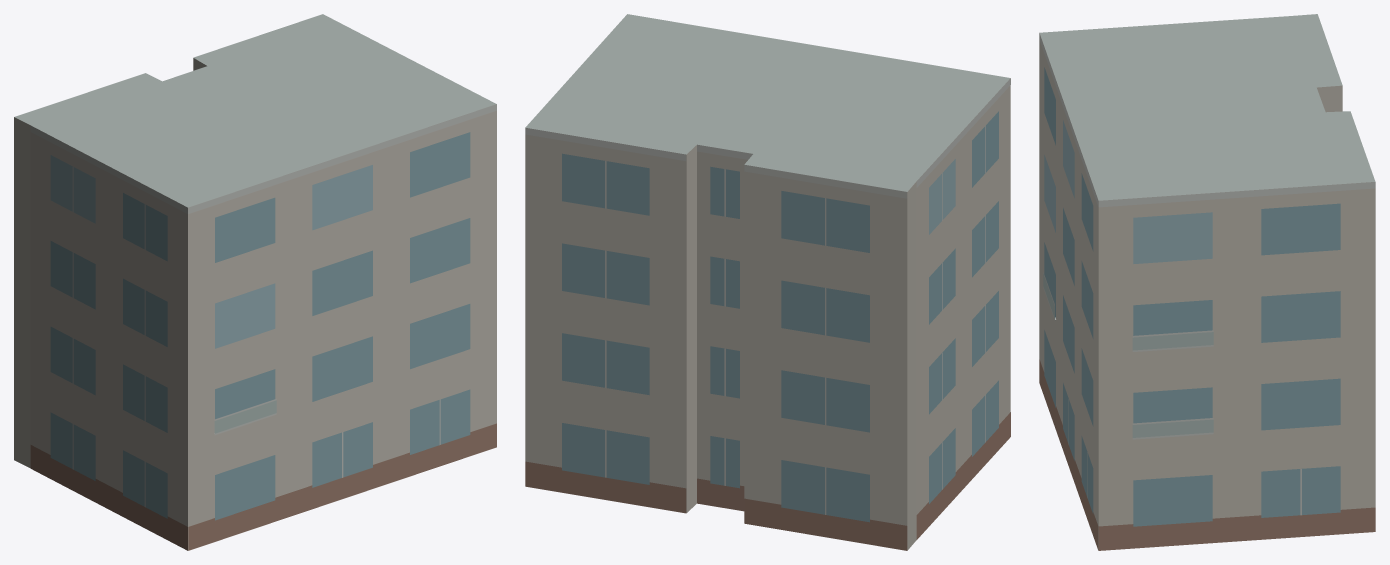
Rendered from survey-upis-32988416.glb.
The picture shows the model from 3 angles, left to right: view 1: azimuth 30°, elevation 25°; view 2: azimuth 150°, elevation 25°; view 3: azimuth 270°, elevation 25°; orthographic projection. The views are drawn at different scales.
Visible parts, largest first — view 1: survey-upis-32988416.tmp; view 2: survey-upis-32988416.tmp; view 3: survey-upis-32988416.tmp.
Boxes of the visible parts, left/top/right/bottom form: survey-upis-32988416.tmp: left=14, top=14, right=496, bottom=550; survey-upis-32988416.tmp: left=525, top=14, right=1010, bottom=550; survey-upis-32988416.tmp: left=1039, top=14, right=1375, bottom=550.
Size of the model in its own units: 14.65 by 12.8 by 11.15.
